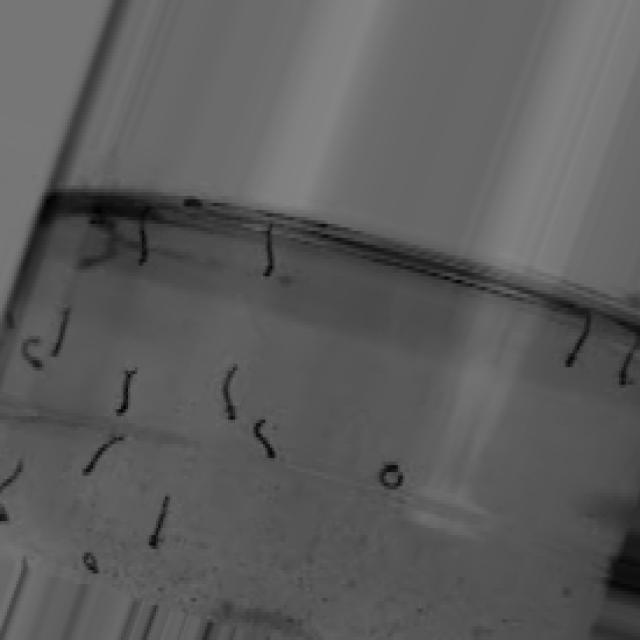larvas: (78, 213, 120, 270), (80, 431, 125, 480), (1, 458, 26, 528), (565, 313, 591, 368), (250, 418, 280, 463), (147, 496, 172, 545), (616, 336, 640, 386), (222, 363, 242, 418), (51, 306, 73, 355), (116, 366, 138, 413), (261, 221, 277, 275), (380, 456, 402, 493), (23, 333, 44, 371), (138, 212, 150, 266), (82, 554, 101, 578)
